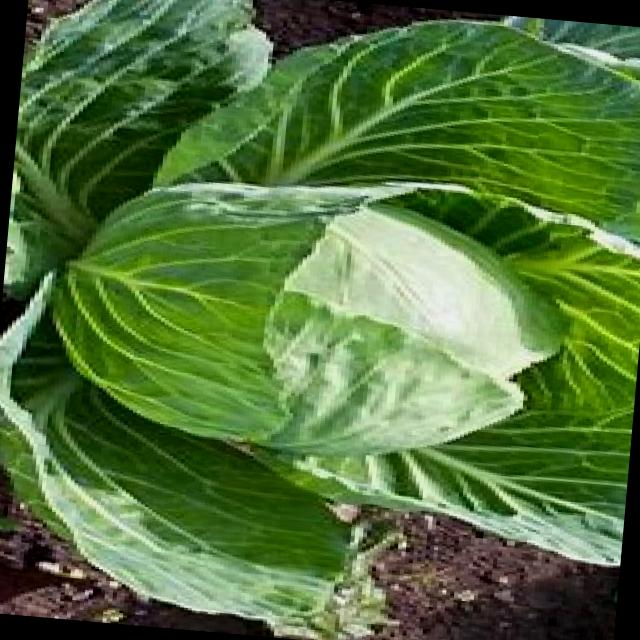cabbage: (54, 143, 552, 467)
